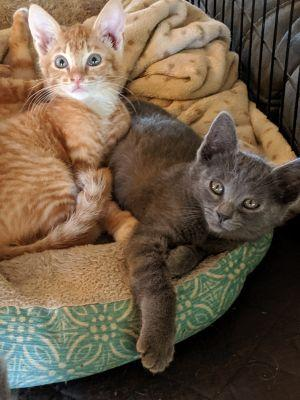rblue: (177, 101, 300, 263)
